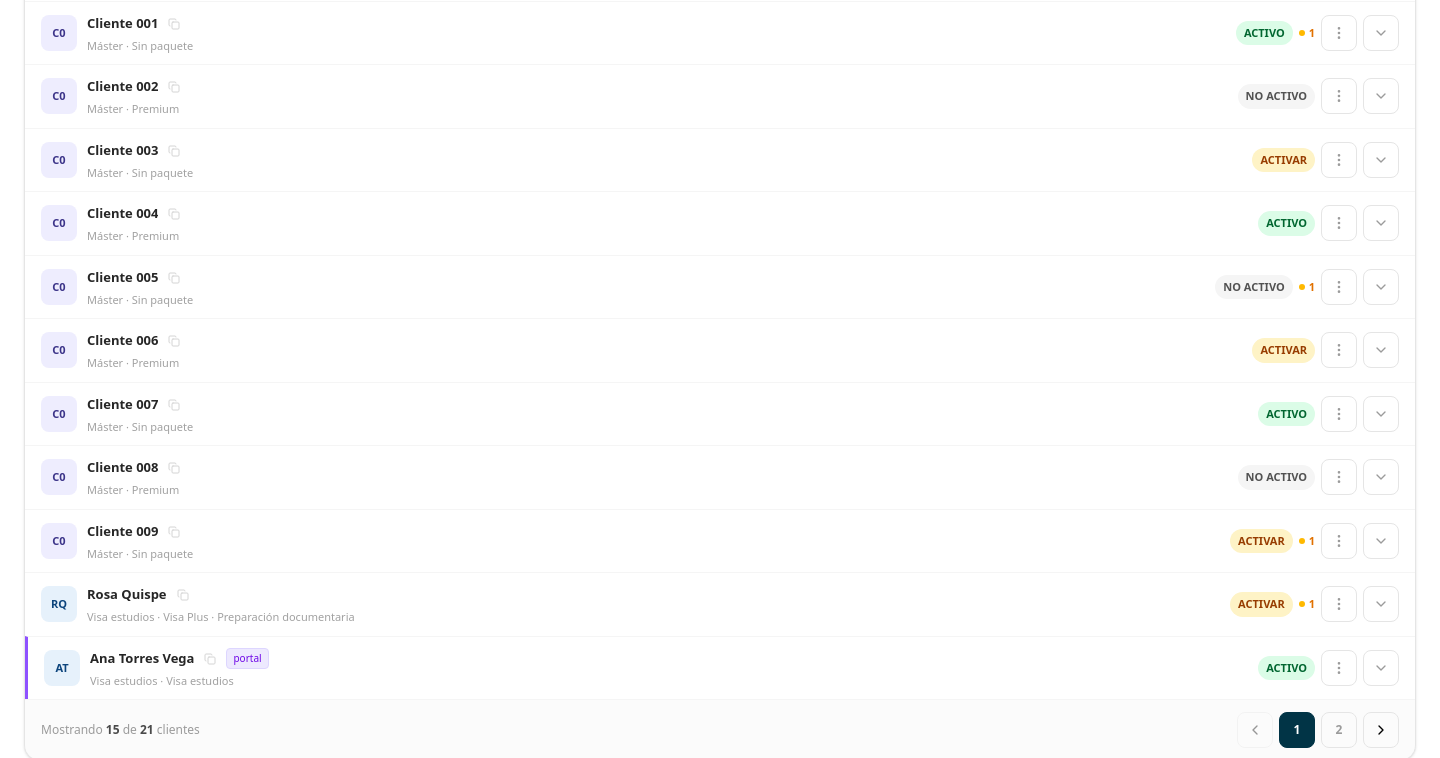
Test: Panel asesoras — lista › todos los servicios, página 1 y página 2
(page scrolled)
Click the button named "Página siguiente".
click(1381, 730)  # box x1=1363 y1=712 x2=1399 y2=748
(page scrolled)
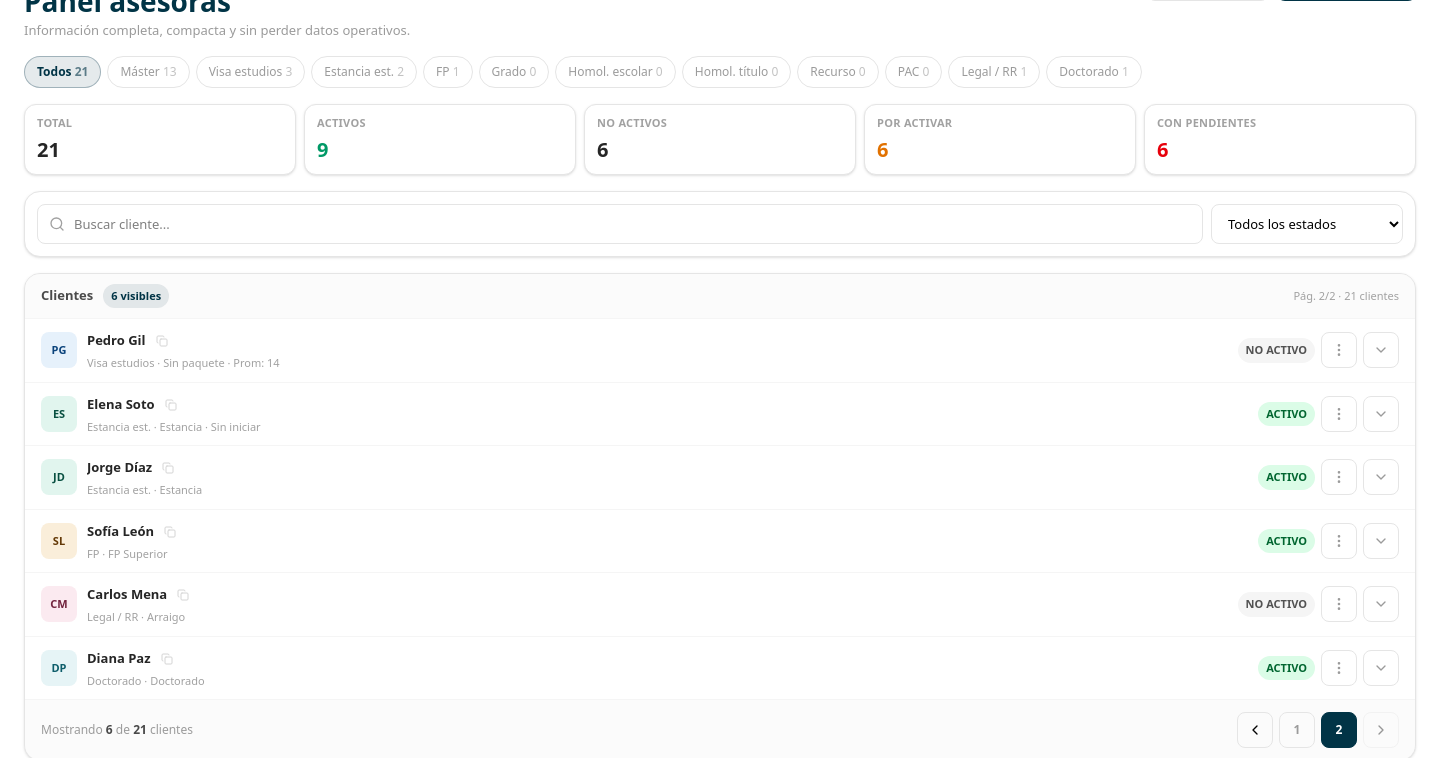
Click the button "1".
click(1297, 730)  # box x1=1279 y1=712 x2=1315 y2=748
(page scrolled)
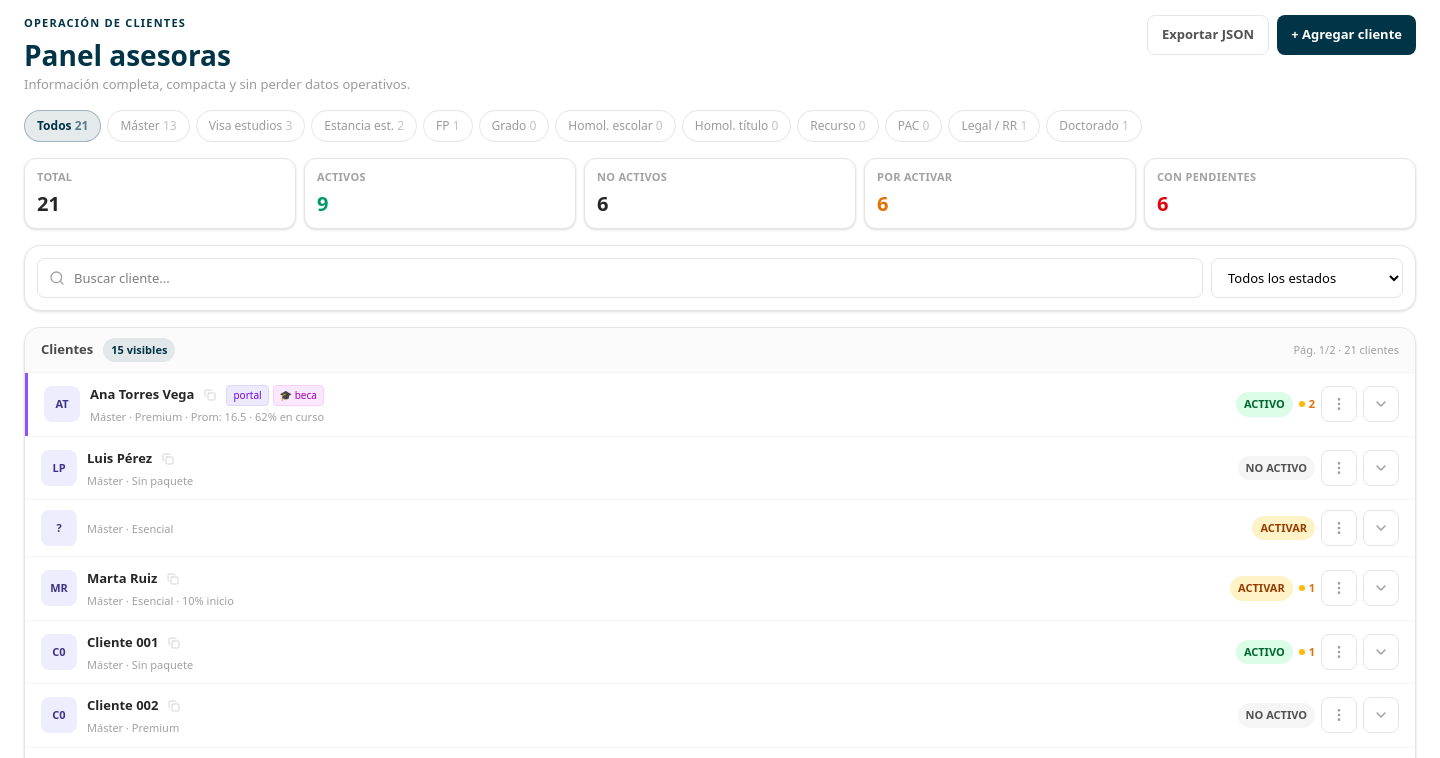
Expected: the text "Pág. 1/2 · 21 clientes" is shown, x1=1293 y1=342 x2=1399 y2=358
